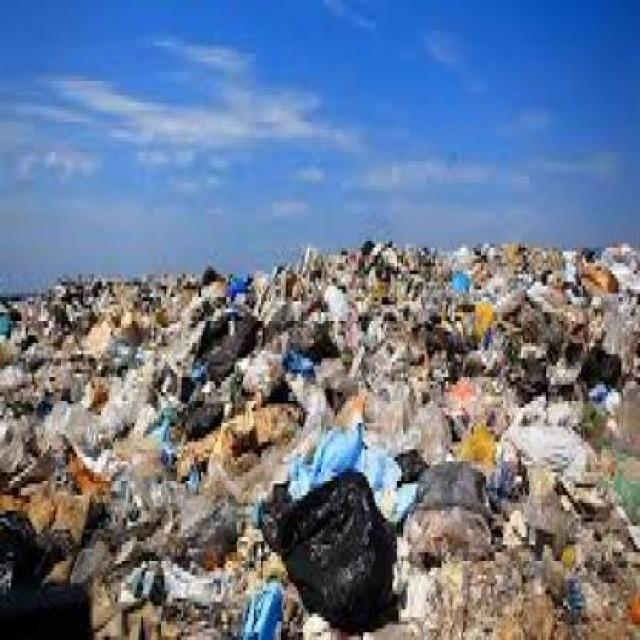garbage: (0, 289, 638, 636), (294, 245, 638, 325)
